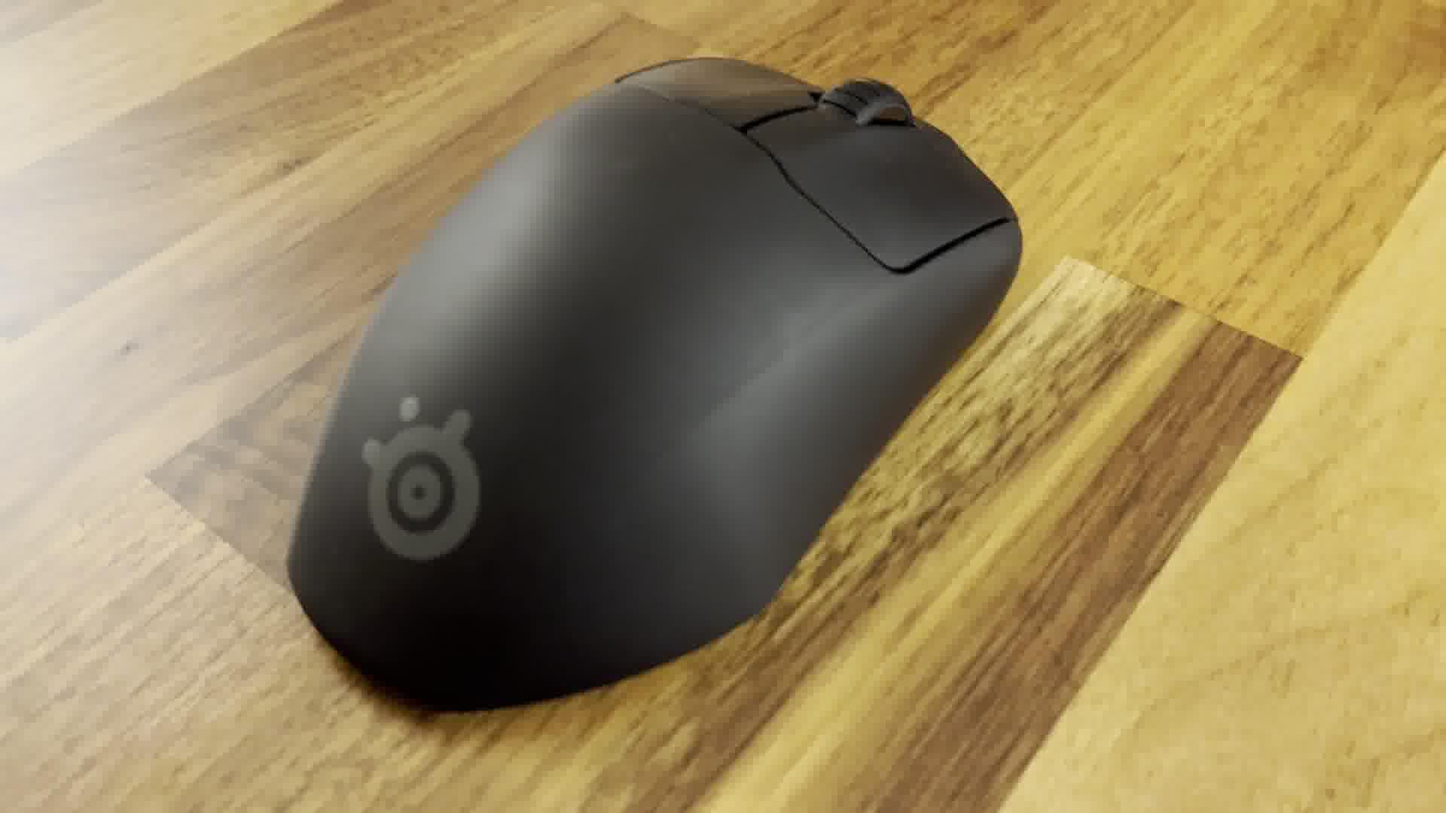steel-series: (276, 47, 1030, 721)
